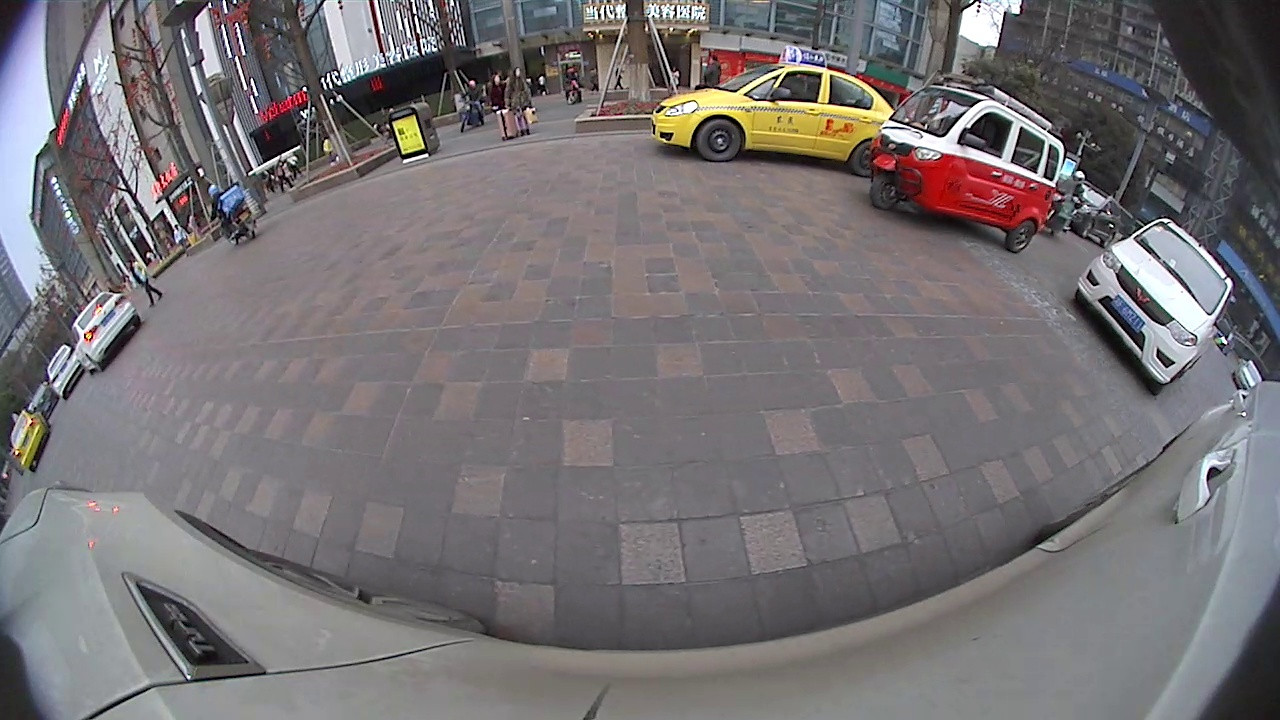car: (649, 43, 897, 178), (1073, 214, 1235, 396), (70, 289, 143, 375), (1064, 179, 1124, 249), (8, 407, 58, 473), (44, 341, 89, 402)
front: (693, 115, 745, 166), (869, 167, 905, 213)
person: (508, 64, 525, 140), (122, 259, 144, 306)
rear: (848, 136, 879, 180), (1004, 217, 1038, 256)
rider: (867, 68, 1069, 255), (207, 181, 258, 242)
